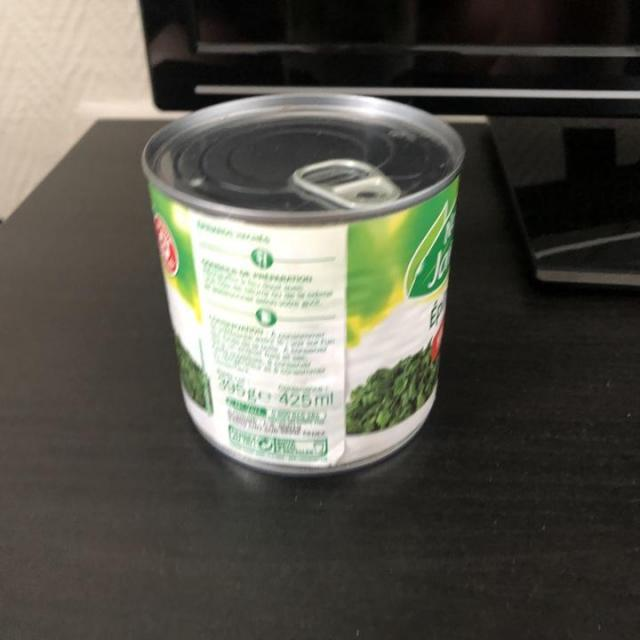recyclable: (136, 80, 468, 488)
